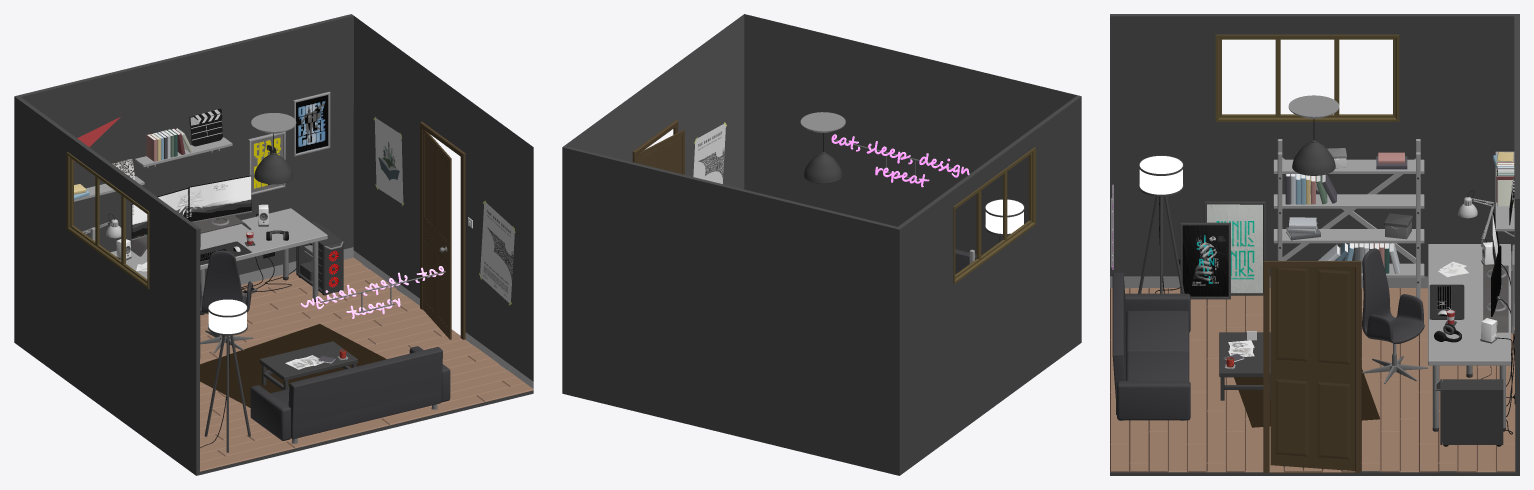
The model's file is office_player_apartment.glb.
3 views of the same model, side by side, from view 1: azimuth 30°, elevation 25°; view 2: azimuth 150°, elevation 25°; view 3: azimuth 270°, elevation 25° (orthographic). The views are drawn at different scales.
Visible parts, largest first — view 1: Object_49, Object_51, Object_28, Object_110, Object_84, Object_83, Object_3, Object_85, Object_32, Object_44, Object_82, Object_31 (+15 smaller); view 2: Object_49, Object_51, Object_85, Object_84, Object_32, Object_30, Object_99, Object_113, Object_105; view 3: Object_49, Object_28, Object_84, Object_83, Object_110, Object_85, Object_78, Object_25, Object_26, Object_113, Object_82, Object_3 (+18 smaller).
Part boxes in pixels (x1=…): Object_49: x1=14, y1=14, x2=533, y2=475; Object_51: x1=353, y1=16, x2=533, y2=381; Object_28: x1=199, y1=257, x2=533, y2=471; Object_110: x1=200, y1=250, x2=450, y2=440; Object_84: x1=420, y1=121, x2=465, y2=339; Object_83: x1=74, y1=137, x2=327, y2=278; Object_3: x1=200, y1=324, x2=386, y2=407; Object_85: x1=66, y1=152, x2=149, y2=288; Object_32: x1=480, y1=202, x2=514, y2=303; Object_44: x1=189, y1=176, x2=251, y2=221; Object_82: x1=259, y1=341, x2=357, y2=389; Object_31: x1=374, y1=118, x2=403, y2=203; Object_49: x1=562, y1=95, x2=1081, y2=475; Object_51: x1=565, y1=14, x2=1076, y2=255; Object_85: x1=953, y1=147, x2=1035, y2=284; Object_84: x1=632, y1=120, x2=684, y2=174; Object_32: x1=693, y1=123, x2=725, y2=183; Object_30: x1=985, y1=199, x2=1023, y2=233; Object_99: x1=803, y1=151, x2=842, y2=183; Object_113: x1=800, y1=112, x2=845, y2=132; Object_105: x1=831, y1=135, x2=968, y2=177; Object_49: x1=1110, y1=14, x2=1519, y2=475; Object_28: x1=1110, y1=288, x2=1515, y2=472; Object_84: x1=1263, y1=261, x2=1361, y2=472; Object_83: x1=1273, y1=139, x2=1514, y2=365; Object_110: x1=1112, y1=248, x2=1424, y2=420; Object_85: x1=1215, y1=34, x2=1399, y2=121; Object_78: x1=1279, y1=177, x2=1503, y2=444; Object_25: x1=1182, y1=225, x2=1228, y2=296; Object_26: x1=1207, y1=204, x2=1262, y2=292; Object_113: x1=1110, y1=95, x2=1427, y2=288; Object_82: x1=1219, y1=332, x2=1270, y2=400; Object_3: x1=1234, y1=367, x2=1379, y2=427.
Size of what is drawn, in the model's own units: 4.39 by 3.05 by 4.09.
Materials: 90 (15 with a texture image).
